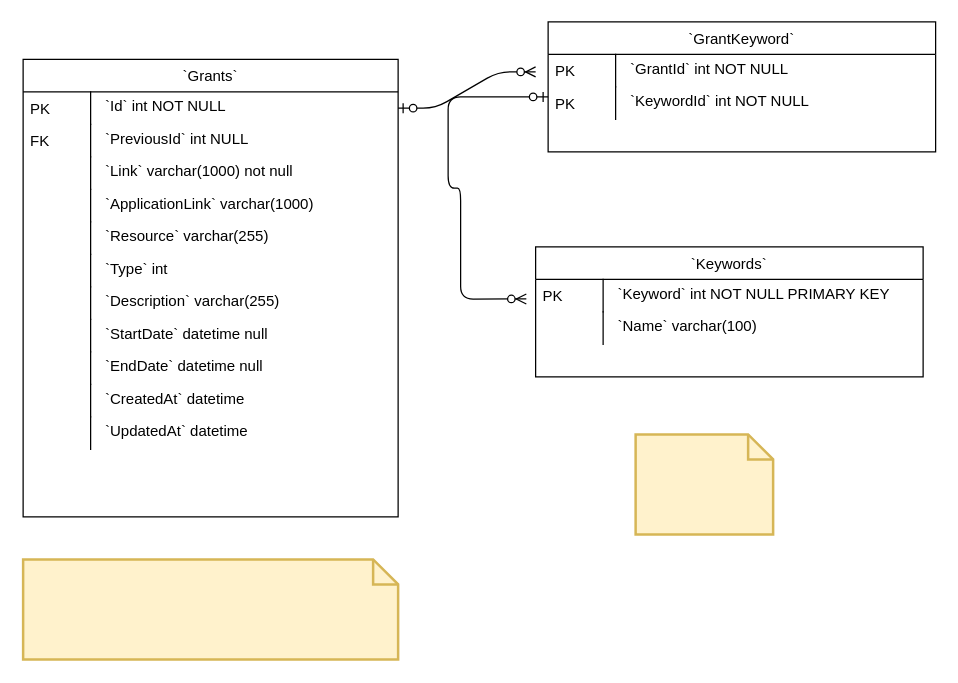
Some shapes in this 958 by 683 pixel diagram are drawn without their labels. The shapes that lost their labels are listed below. From the top down, each one's centre as x and y in pixels, then its label:
At point (704, 483): "subscriber similar to keywords for demo".
At point (210, 609): "type: individual or community".
